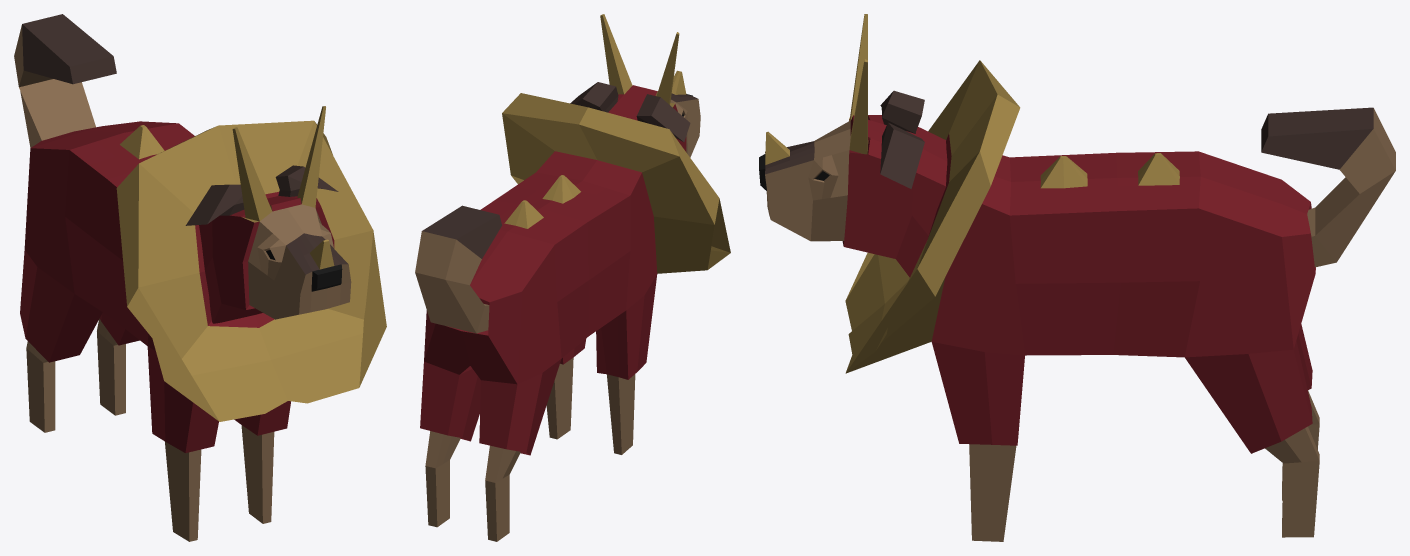
Rendered from Sharpay 1.fbx.
The picture shows the model from 3 angles, left to right: view 1: azimuth 30°, elevation 25°; view 2: azimuth 150°, elevation 25°; view 3: azimuth 270°, elevation 25°; orthographic projection. The views are drawn at different scales.
Parts seen in each view (by area): view 1: Plane; view 2: Plane; view 3: Plane.
Part boxes in pixels (<box>): Plane: <box>14,14,386,541</box>; Plane: <box>415,14,730,541</box>; Plane: <box>759,14,1395,541</box>.
Bounding box in the file's own units: 3.54 × 6.36 × 7.6.
